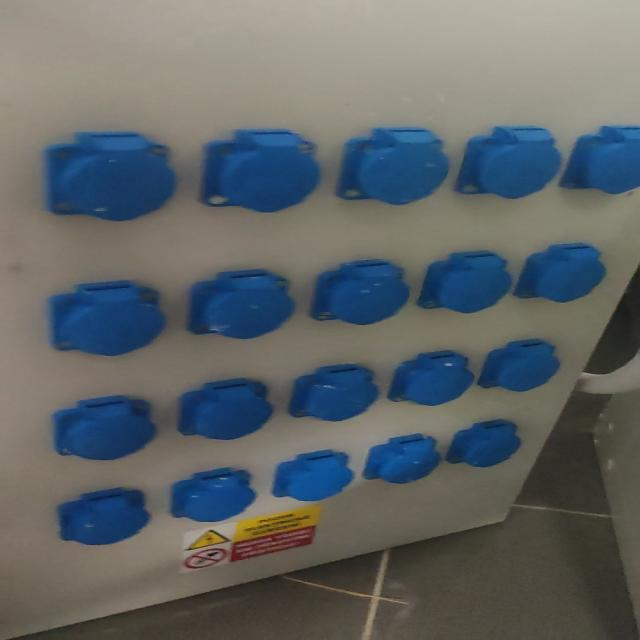house plug covered: (43, 132, 175, 222), (203, 131, 319, 213), (335, 127, 450, 206), (46, 280, 165, 355), (456, 126, 564, 200), (188, 272, 292, 341), (52, 396, 155, 460), (313, 262, 407, 325), (178, 378, 273, 440), (564, 125, 640, 198), (514, 243, 606, 303), (56, 490, 151, 545), (290, 364, 379, 422), (171, 467, 258, 522), (422, 254, 506, 310), (392, 350, 475, 406), (270, 449, 354, 503), (478, 339, 559, 392), (363, 433, 440, 485), (446, 419, 521, 468)
